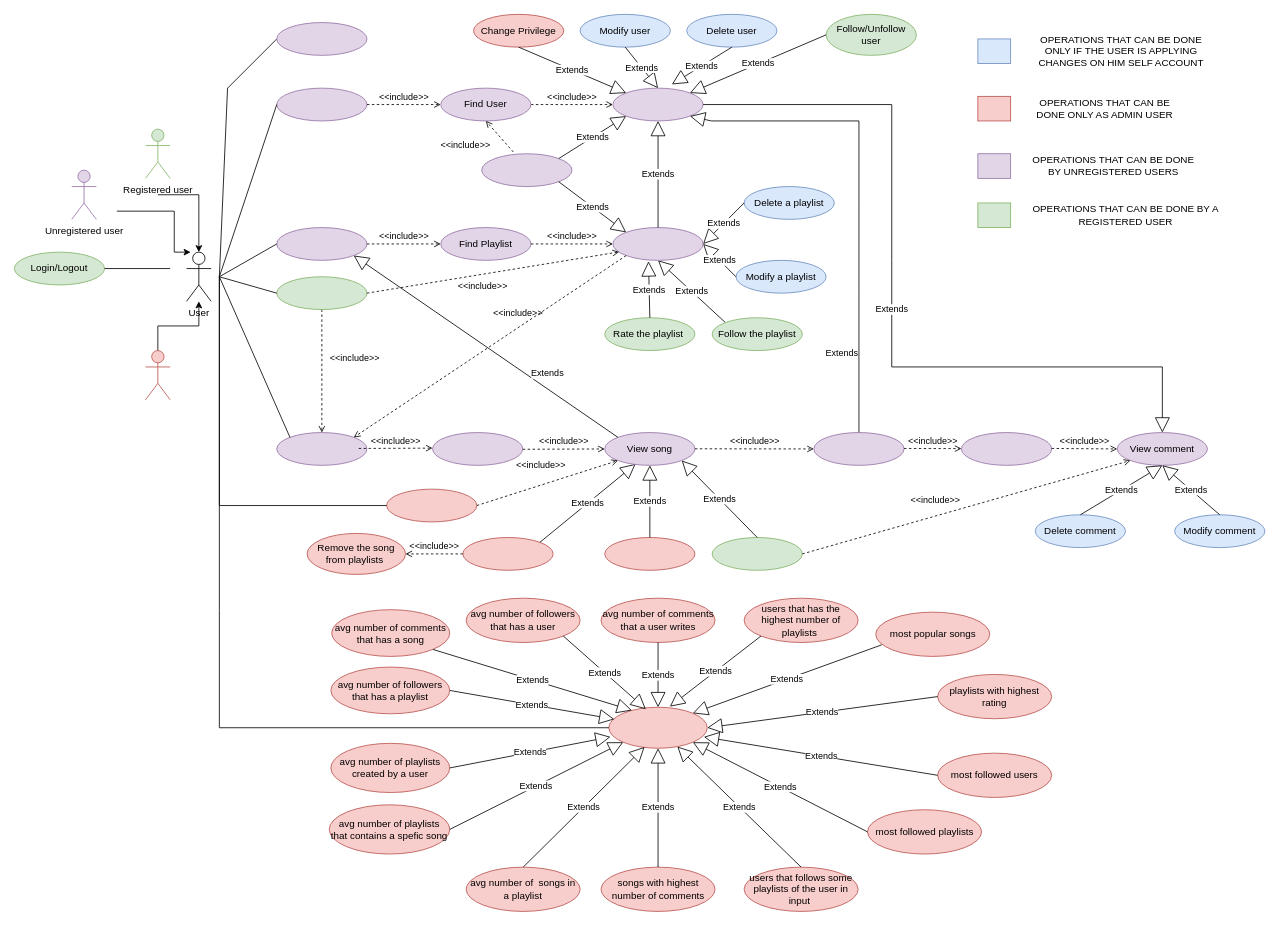
Image size: 1279x926. Some labels were removed from this diagram. Each missing label, with the box of its shape:
Add a comment: (711, 537, 802, 570)
Add a song: (386, 488, 477, 522)
Add playlist: (276, 276, 367, 310)
Admin user: (145, 350, 170, 400)
Browse comments: (813, 432, 904, 465)
Browse Follower: (481, 153, 572, 187)
Browse Playlist: (276, 227, 367, 260)
Browse songs: (276, 432, 367, 465)
Browse User: (276, 87, 367, 121)
Delete a song: (462, 537, 553, 570)
Extract analytics: (608, 706, 707, 748)
Find comment: (961, 432, 1052, 465)
Find song: (432, 432, 523, 465)
Modify a song: (604, 537, 695, 570)
Register: (276, 22, 367, 55)
View playlist: (612, 227, 703, 260)
View user: (612, 87, 703, 121)
